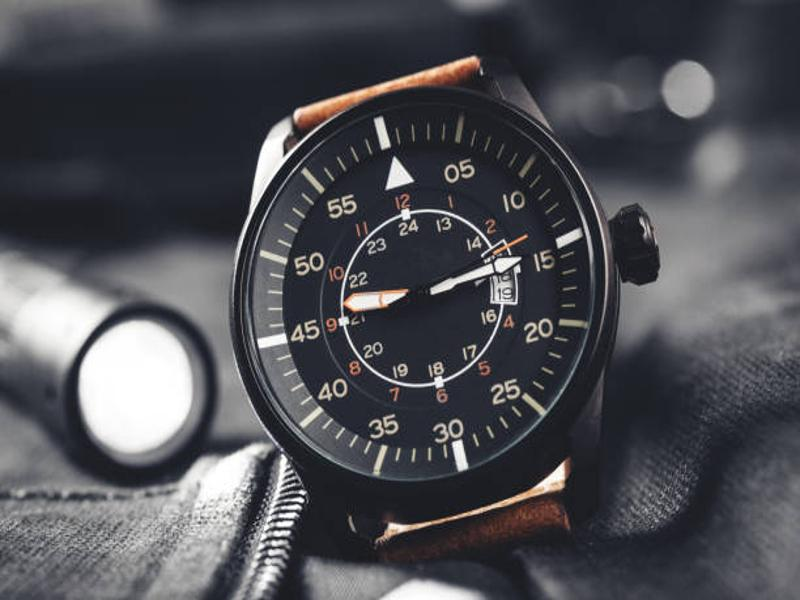watch: (225, 53, 663, 564)
